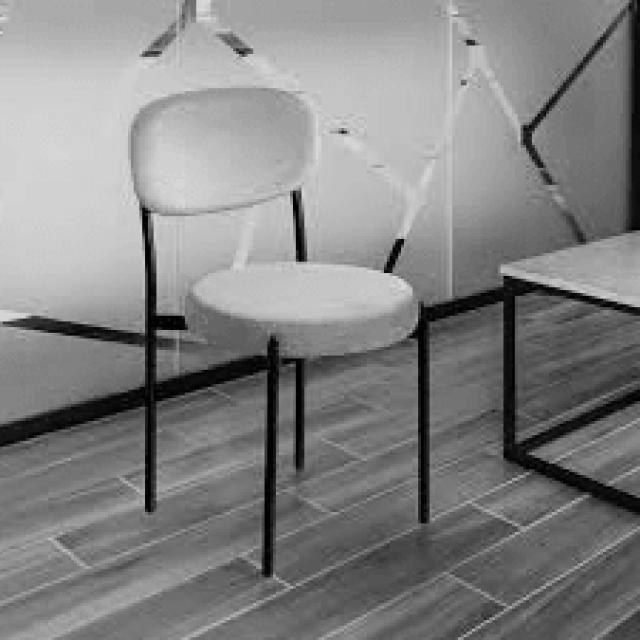chair: (184, 119, 441, 578), (129, 85, 320, 515)
